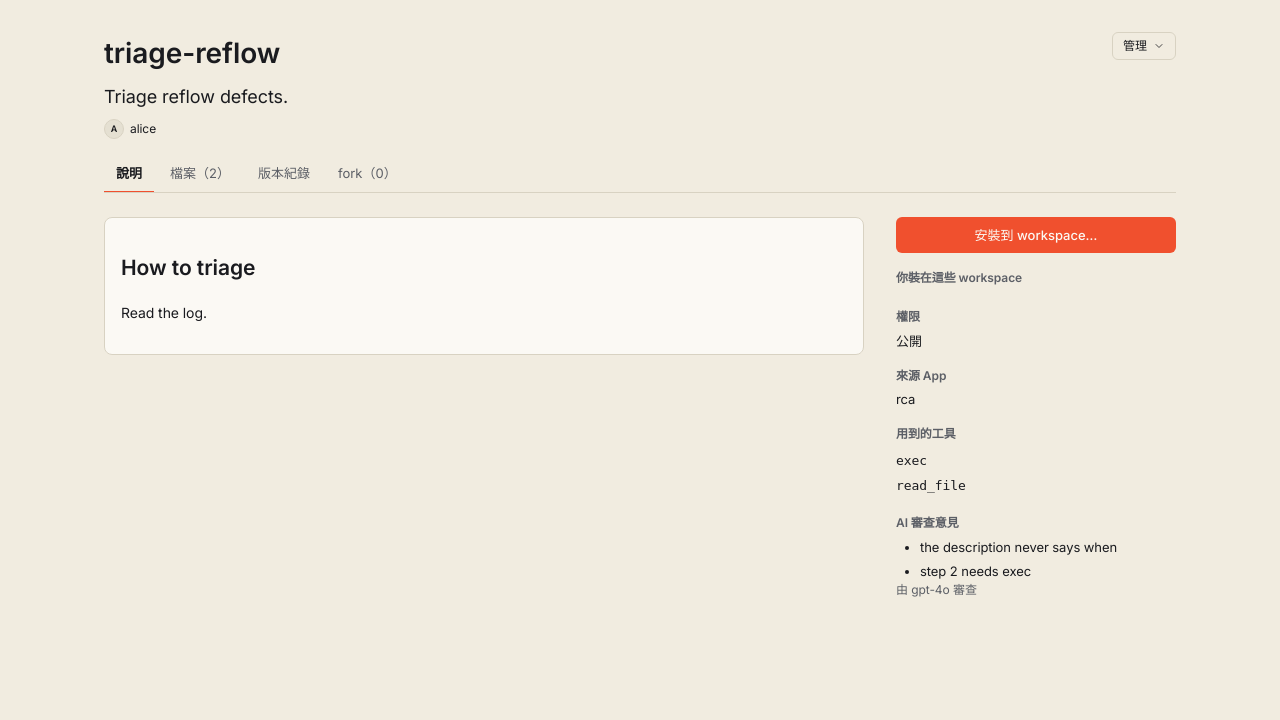
Scenario: SkillHubEntryPage › does not ALSO raise the global write-failure toast for a failure it shows itself — setPermission (D3)
Click the button "管理".
click(1144, 46)  # box [1112, 32, 1176, 60]
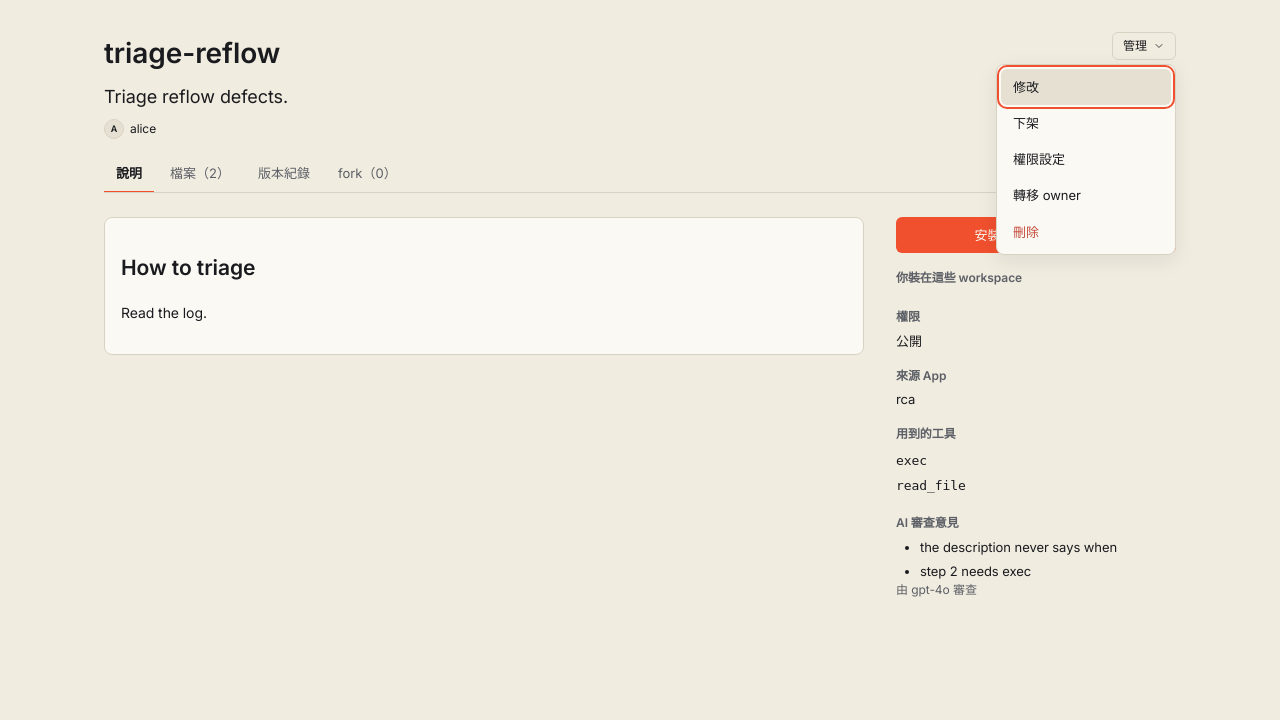
Click the menu item "權限設定".
click(1086, 159)  # box [1001, 141, 1171, 177]
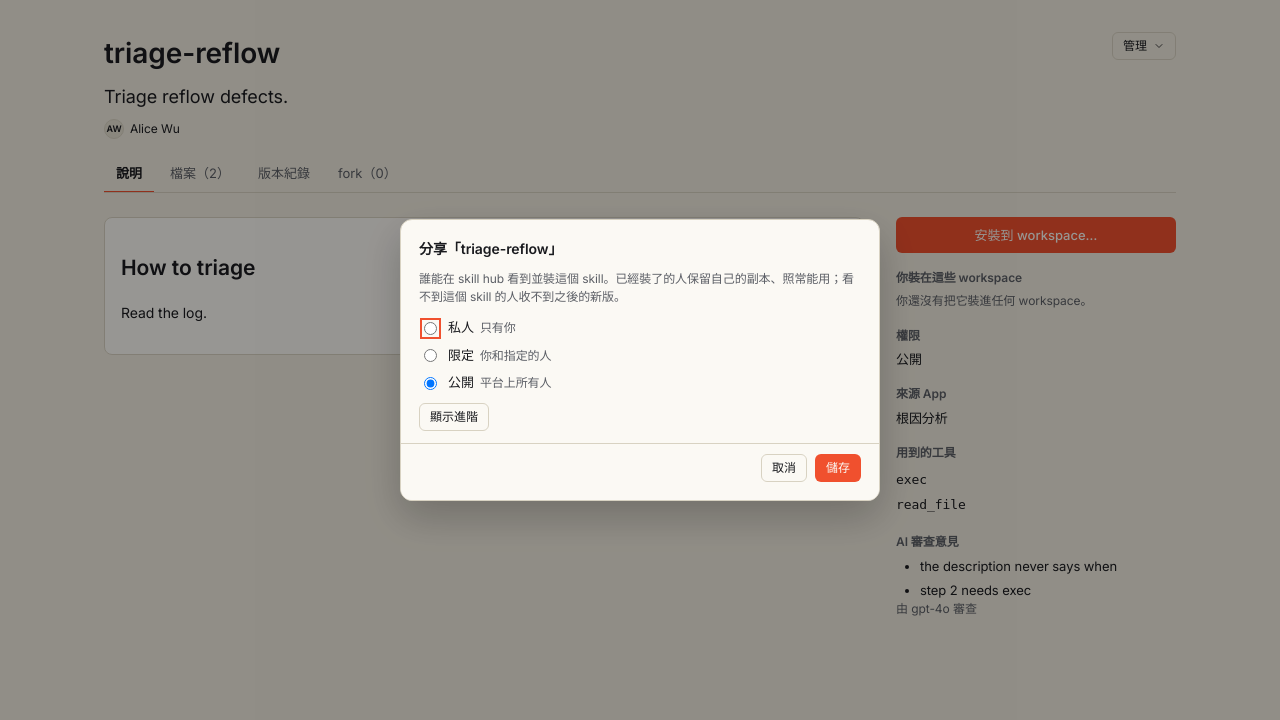
Click the button with test id "permission-save".
click(838, 468)  # box [815, 454, 861, 482]
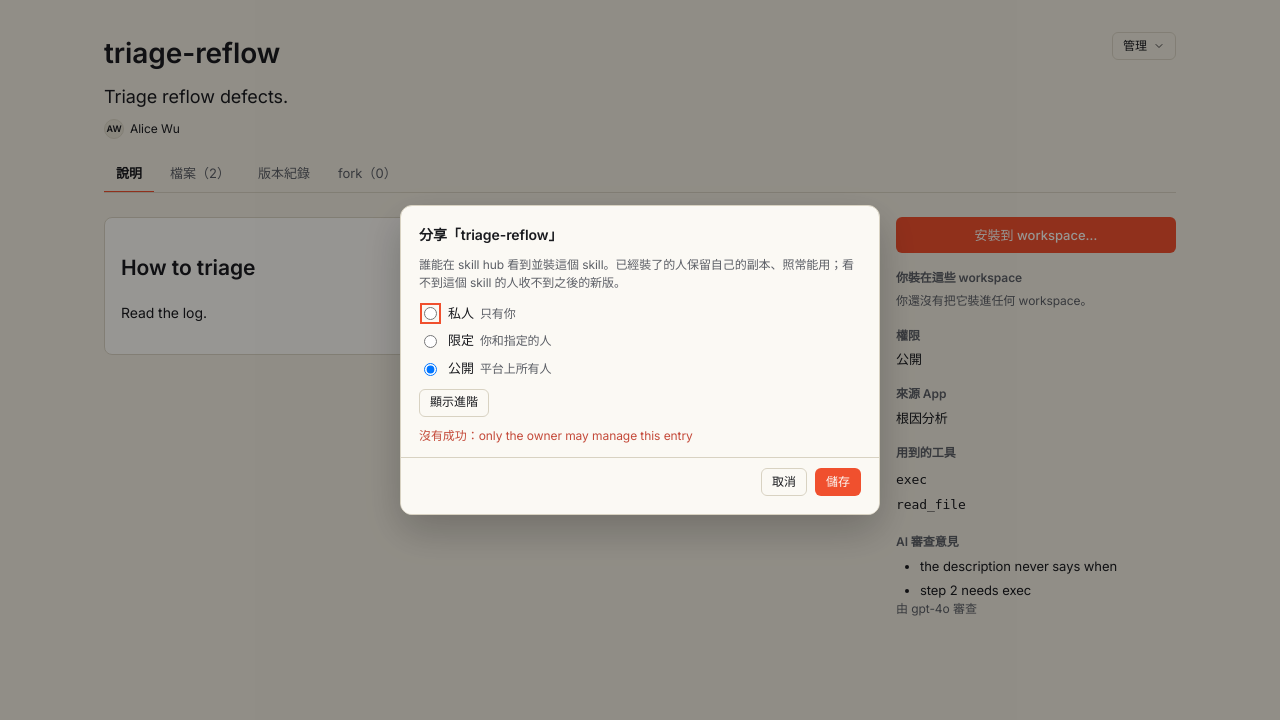
Expected: the message shows "only the owner may manage this entry", [419, 428, 693, 443]
